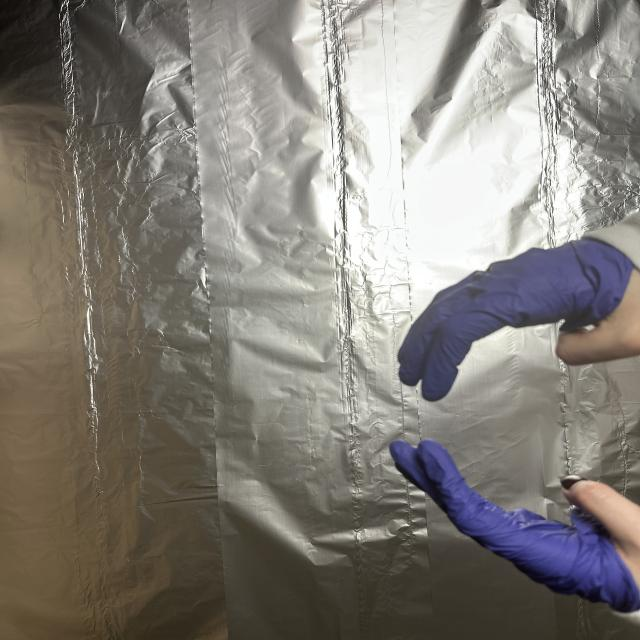glove_partial: (389, 435, 640, 614), (391, 231, 640, 403)
